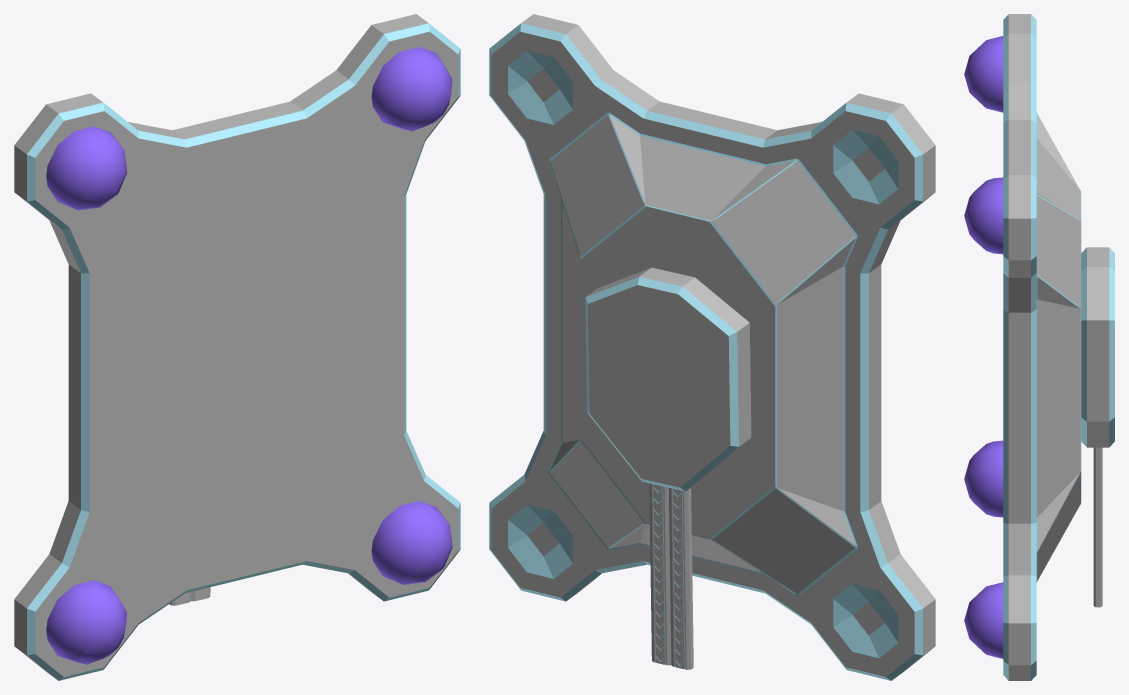
Rendered from Assemble_V2_Blender_FBX.fbx.
3 views of the same model, side by side, from view 1: azimuth 30°, elevation 25°; view 2: azimuth 150°, elevation 25°; view 3: azimuth 270°, elevation 25° (orthographic). The views are drawn at different scales.
Visible parts, largest first — view 1: Chamfer11; view 2: Chamfer11, Mirror1; view 3: Chamfer11, Mirror1.
Part boxes in pixels (<box>): Chamfer11: <box>14,14,460,680</box>; Chamfer11: <box>489,14,935,680</box>; Mirror1: <box>585,267,751,669</box>; Chamfer11: <box>964,14,1081,680</box>; Mirror1: <box>1081,247,1114,607</box>.
Bounding box in the file's own units: 400000 × 500248 × 135000.
